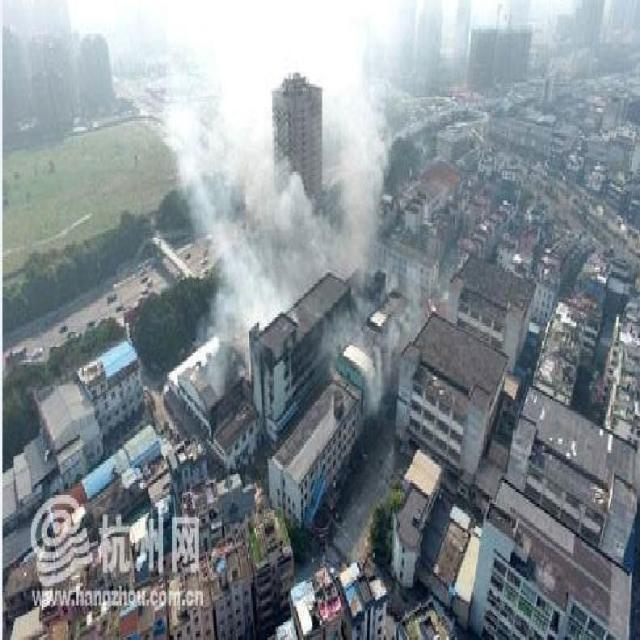Smoke: (154, 0, 402, 379)
